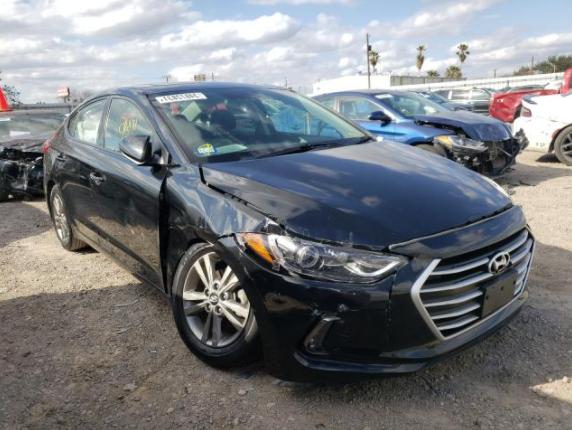Broken part: (155, 162, 289, 294), (432, 198, 518, 238), (289, 227, 399, 257), (385, 272, 400, 348)
Dent: (237, 247, 393, 340)
Missing part: (484, 271, 517, 316)
Scratch: (236, 200, 244, 230), (263, 217, 280, 228), (344, 234, 354, 246), (322, 317, 342, 322), (338, 305, 347, 313), (327, 238, 344, 242), (309, 310, 319, 316)
